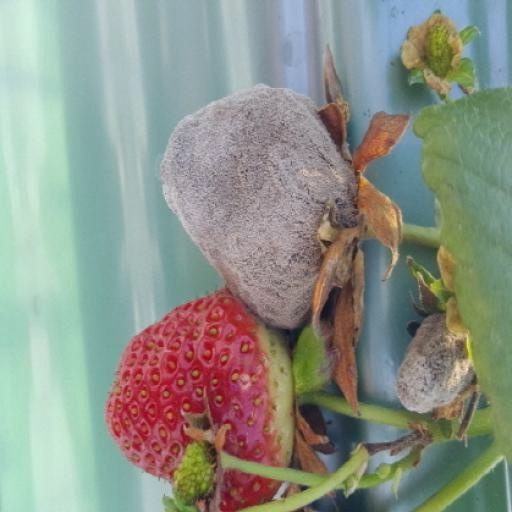Gray Mold: (100, 84, 353, 416), (33, 275, 118, 440)
